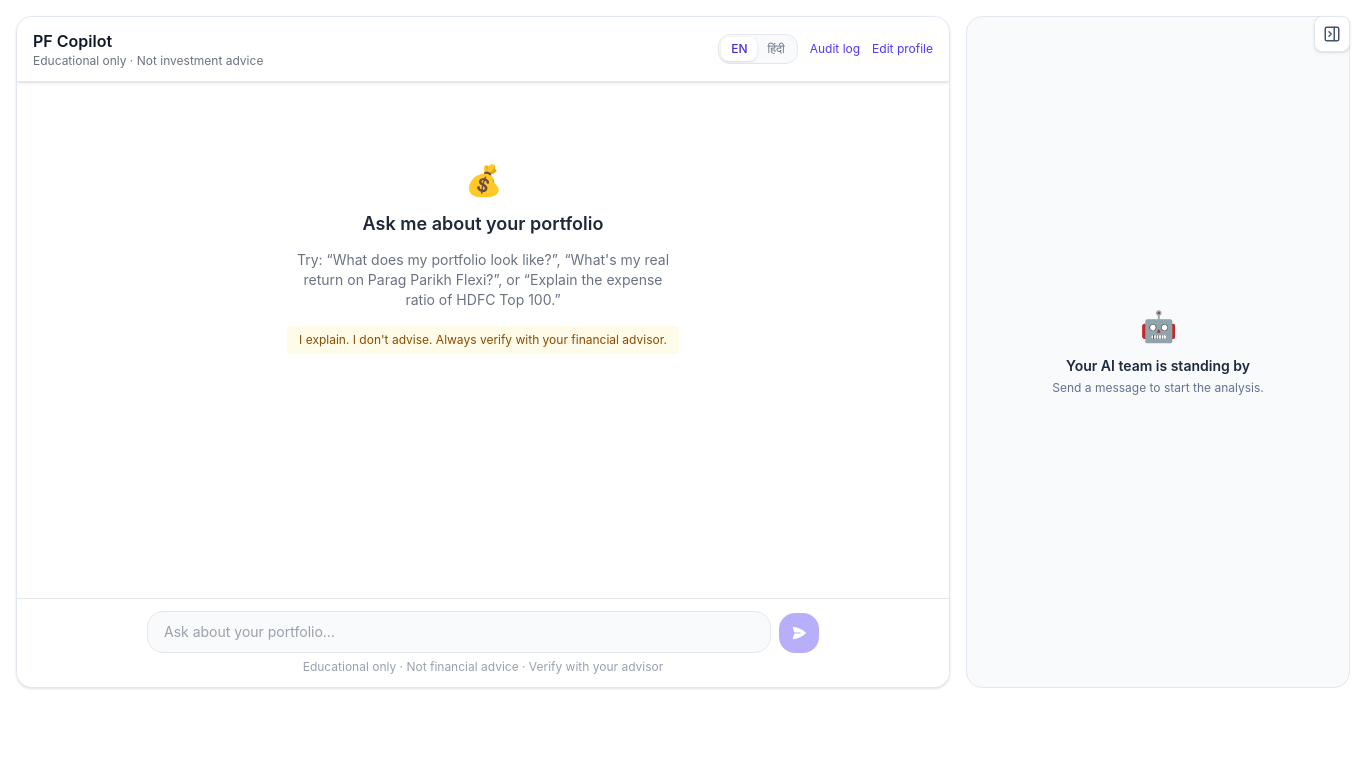
Scenario: ChatPage workspace state › renders the workspace_state supplied by the API
The image size is (1366, 768).
Type "What does my portfolio look like?" into the text box with placeholder "Ask about your portfolio…" at (459, 632), box [147,611,771,653]
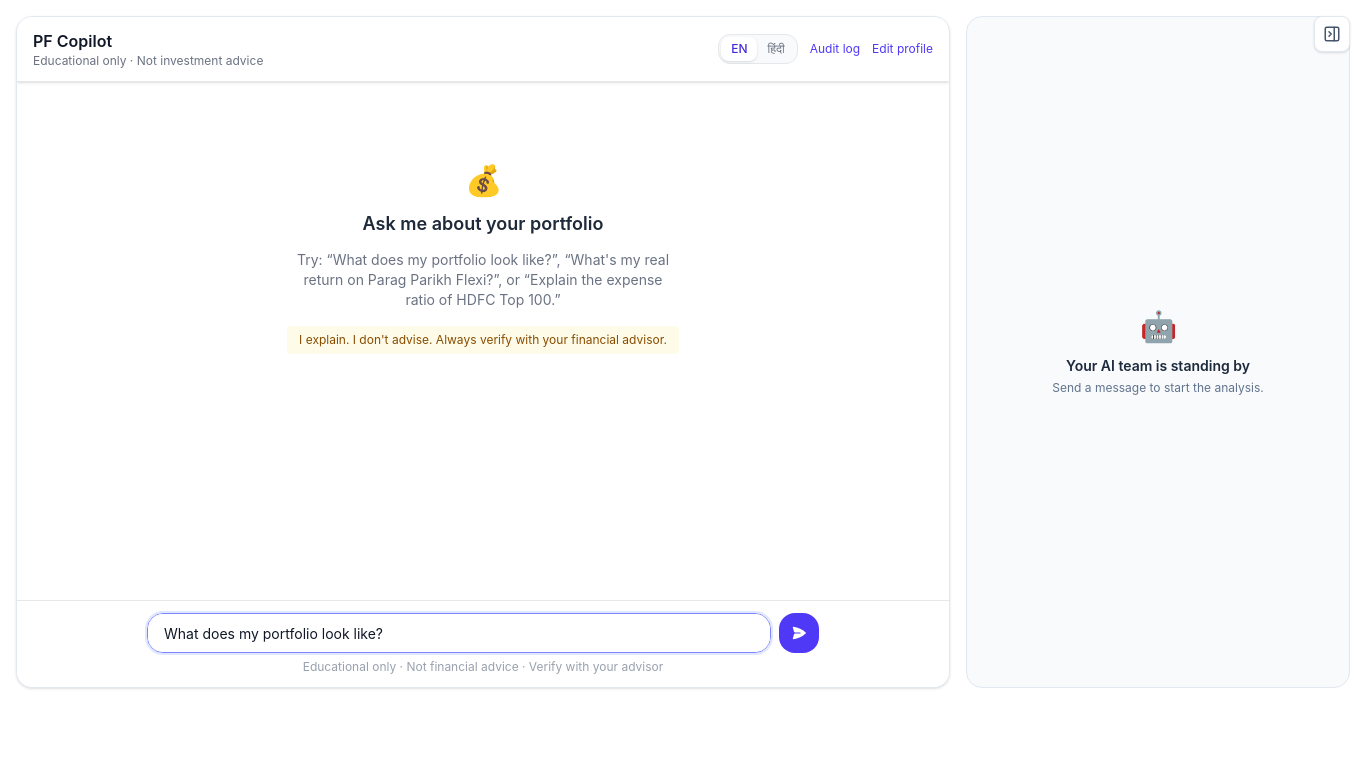
Click the button named "Send" at (799, 633), box [779,613,819,653]
(page scrolled)
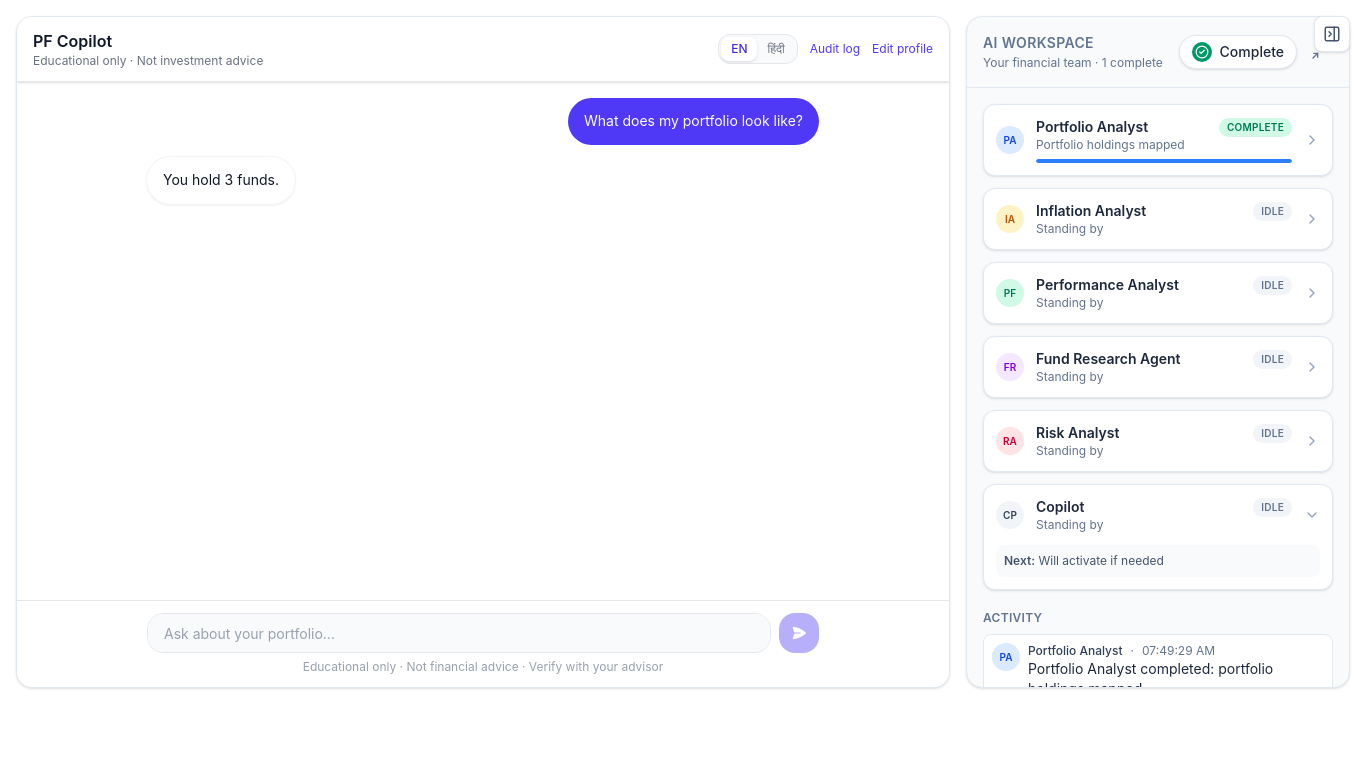
Expected: the 1st text "Portfolio Analyst" is shown, [1036,117,1148,137]
Expected: the element named "Copilot status: Complete" is shown, [1179,35,1297,69]
